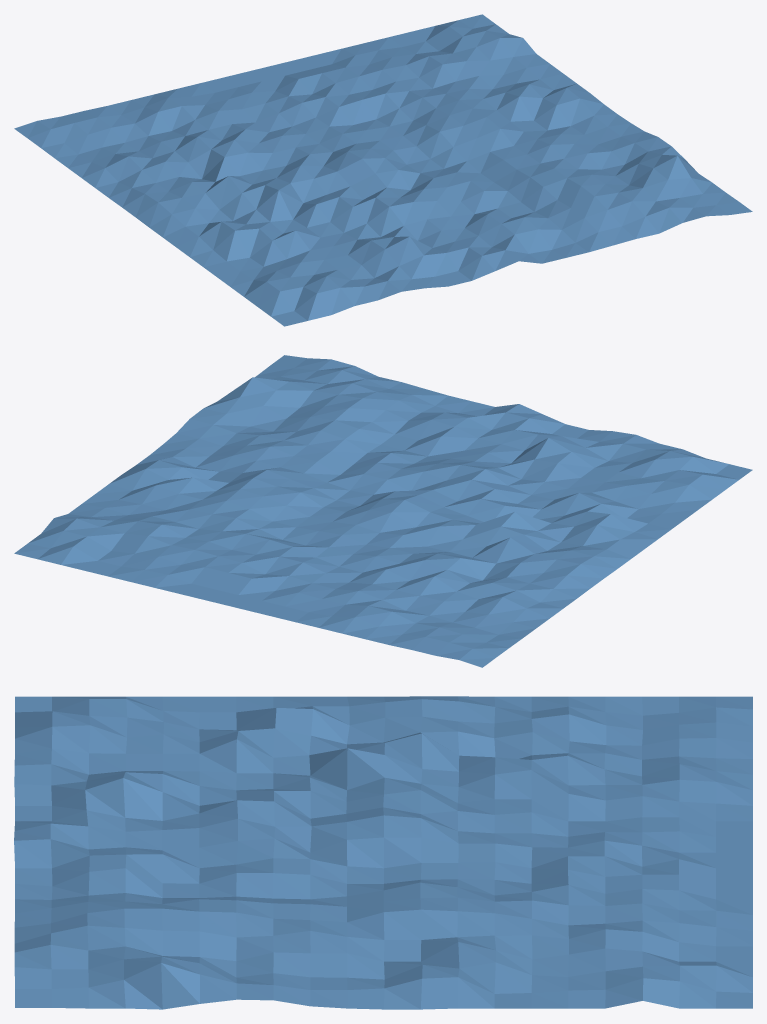
File: Water.glb
The picture shows the model from 3 angles, top to bottom: view 1: azimuth 30°, elevation 25°; view 2: azimuth 150°, elevation 25°; view 3: azimuth 270°, elevation 25°; orthographic projection. The views are drawn at different scales.
Parts seen in each view (by area): view 1: Node; view 2: Node; view 3: Node.
Boxes of the visible parts, x1=… form: Node: x1=14, y1=14, x2=752, y2=326; Node: x1=14, y1=355, x2=752, y2=667; Node: x1=14, y1=696, x2=752, y2=1009.
Bounding box in the file's own units: 2 × 0.1114 × 2.
